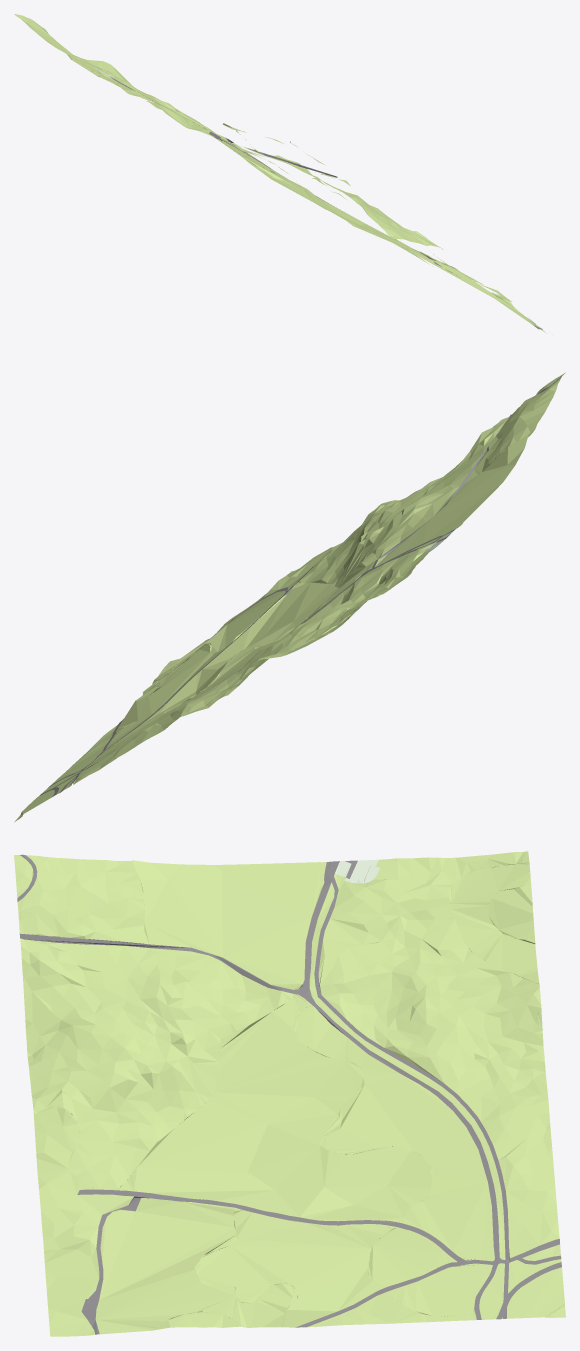
3 renders of one model, top to bottom at view 1: azimuth 30°, elevation 25°; view 2: azimuth 150°, elevation 25°; view 3: azimuth 270°, elevation 25°, orthographic. The views are drawn at different scales.
Size of the model in its own units: 217 by 173 by 266.
